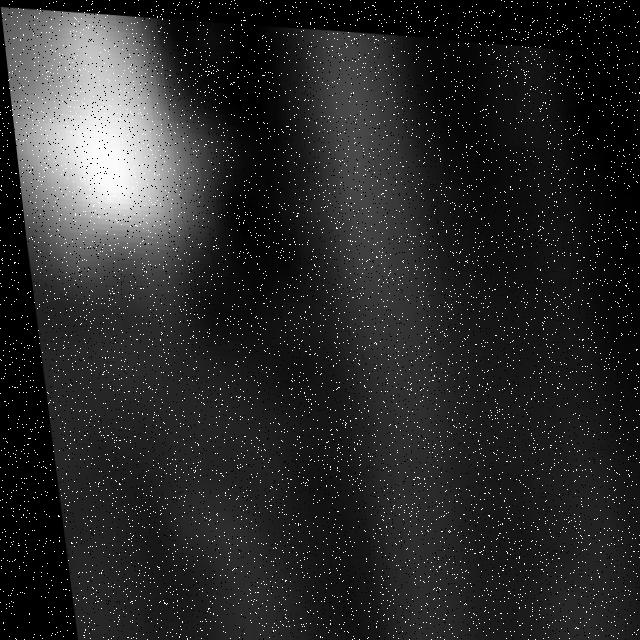person: (1, 2, 248, 314)
